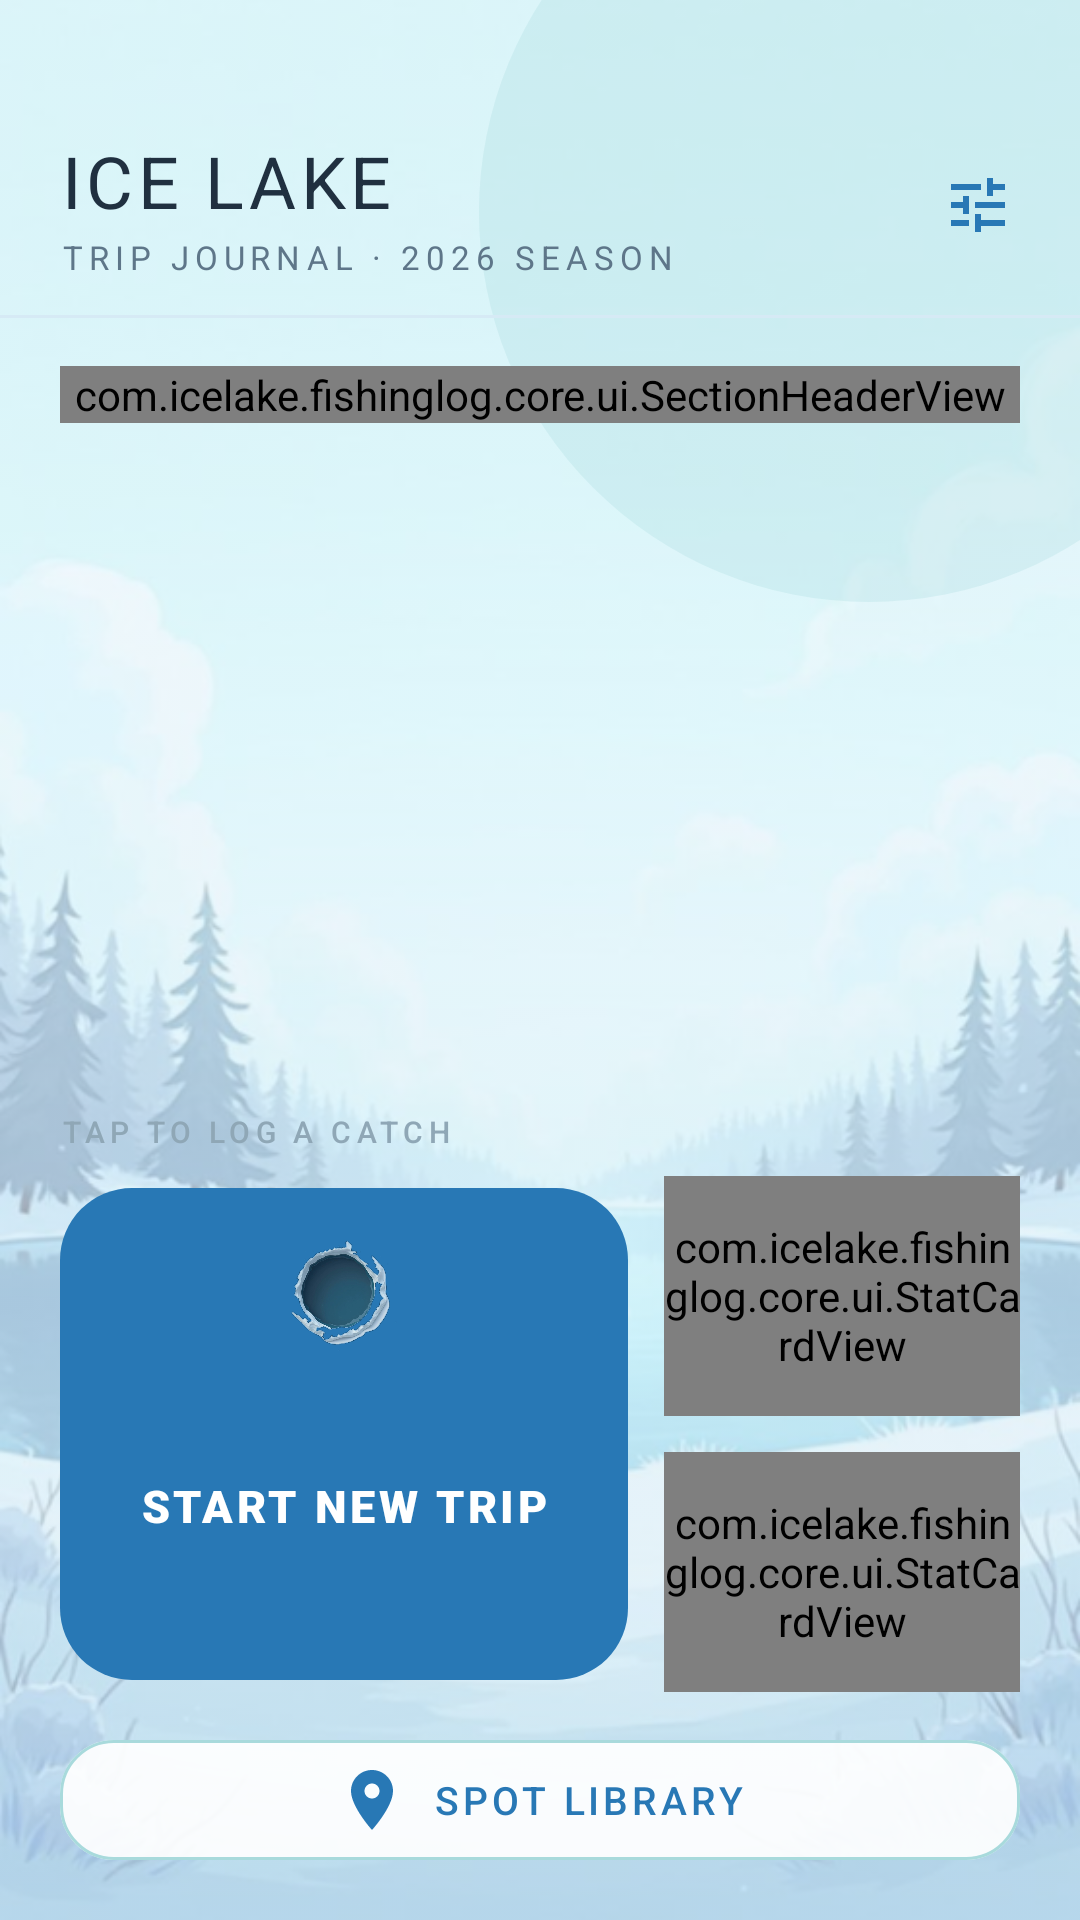

Icons on this 1080x1920 Android screen, each with the point to tap as (x,y):
Open settings: (978,205)
